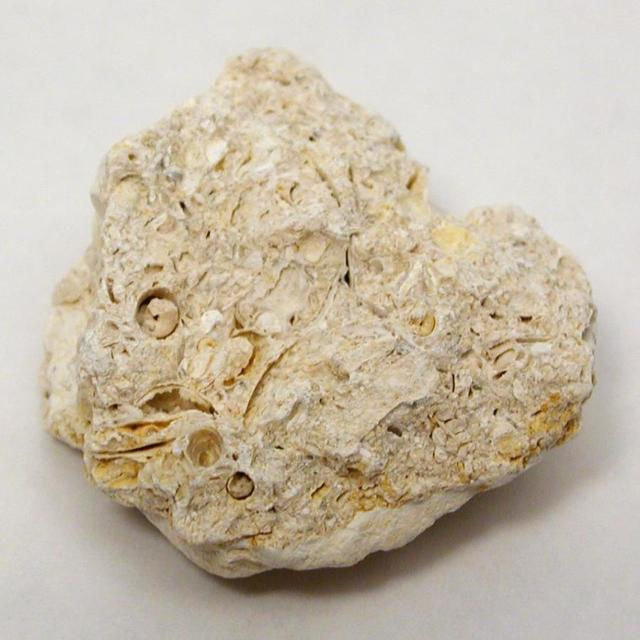Sedimentary: (39, 42, 596, 566)
